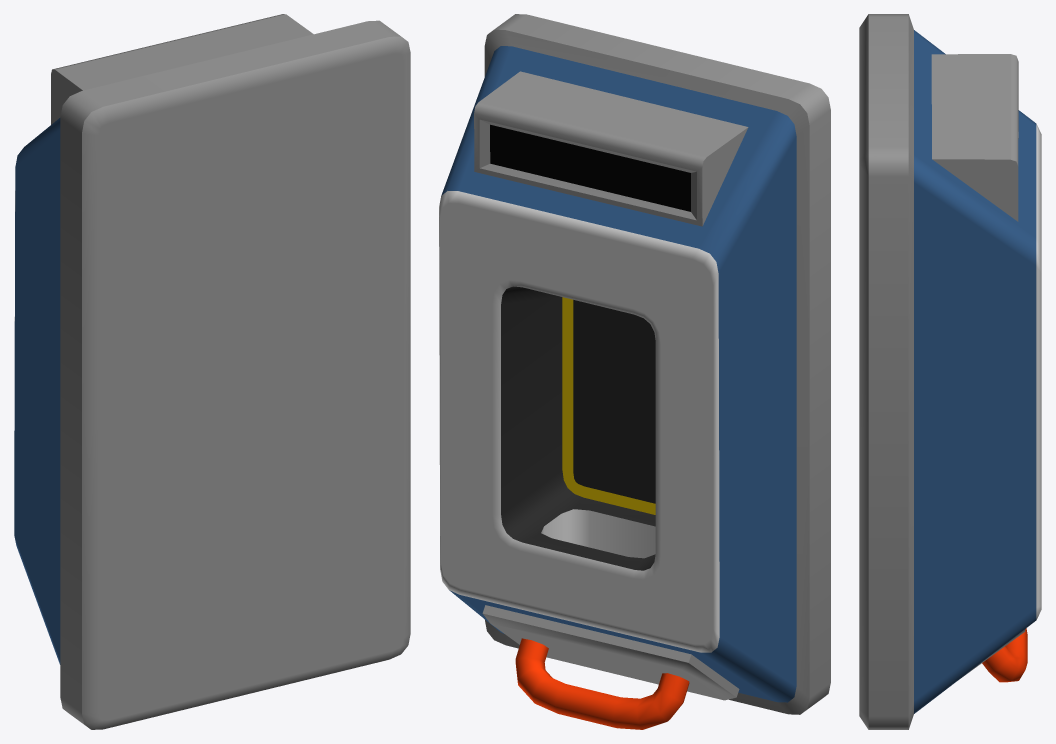
The model's file is WallCharger.FBX.
3 views of the same model, side by side, from view 1: azimuth 30°, elevation 25°; view 2: azimuth 150°, elevation 25°; view 3: azimuth 270°, elevation 25° (orthographic). The views are drawn at different scales.
Visible parts, largest first — view 1: ChargeStation; view 2: ChargeStation; view 3: ChargeStation.
Boxes of the visible parts, x1=… form: ChargeStation: x1=14, y1=14, x2=410, y2=729; ChargeStation: x1=439, y1=14, x2=830, y2=729; ChargeStation: x1=859, y1=14, x2=1041, y2=729.
Size of the model in its own units: 106 by 192 by 54.79.
